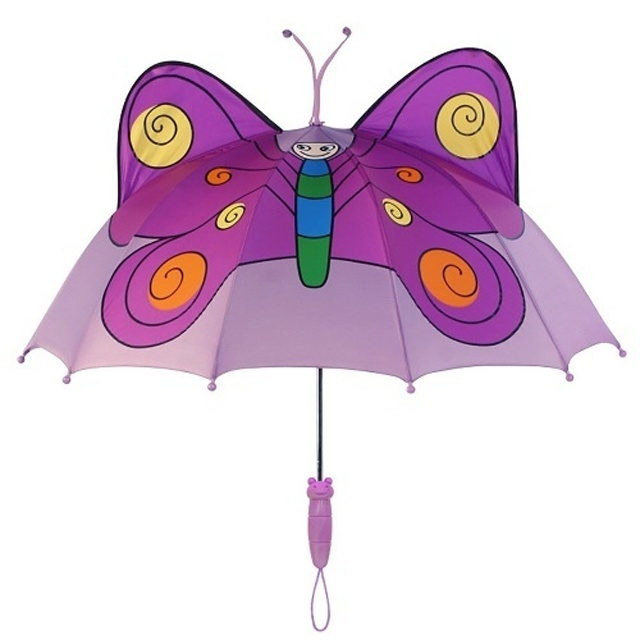umbrella: (8, 120, 633, 575)
